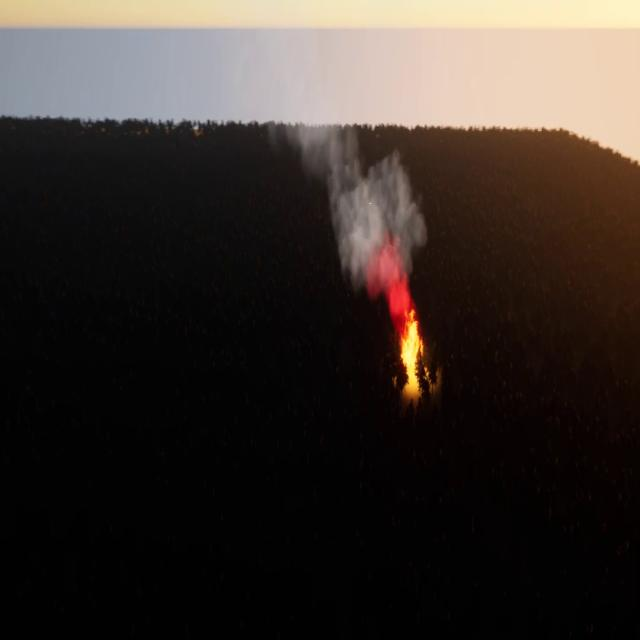fire: (395, 312, 431, 384)
smoke: (289, 114, 429, 321)
